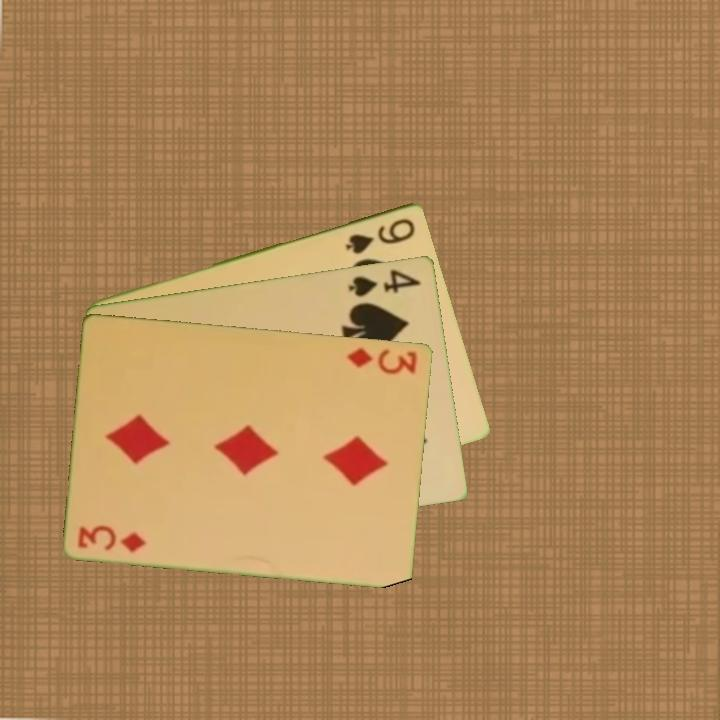3d: (343, 344, 421, 377), (74, 522, 150, 554)
4s: (345, 265, 425, 299)
9s: (342, 214, 419, 256)
